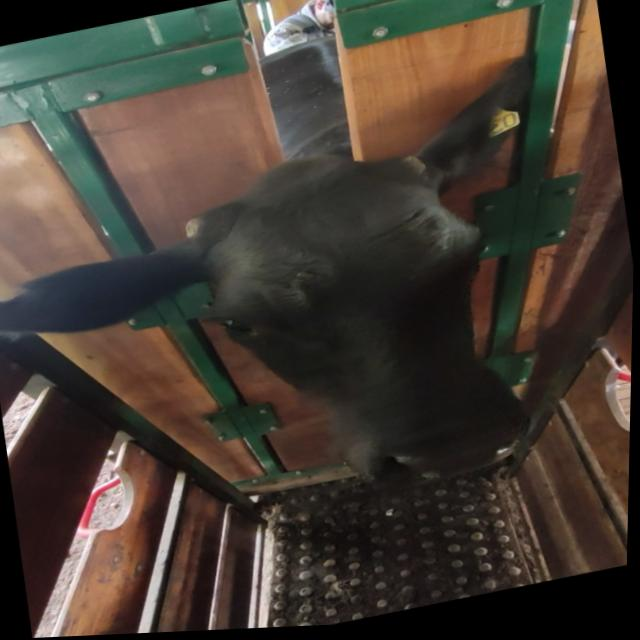cowFace: (185, 139, 533, 525)
